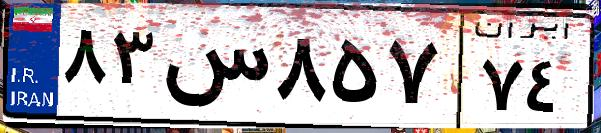3: (110, 28, 158, 98)
4: (525, 38, 570, 115)
5: (330, 28, 385, 110)
7: (385, 28, 445, 110), (475, 38, 525, 113)
8: (270, 28, 330, 110), (57, 26, 110, 100)
س: (158, 20, 270, 120)
